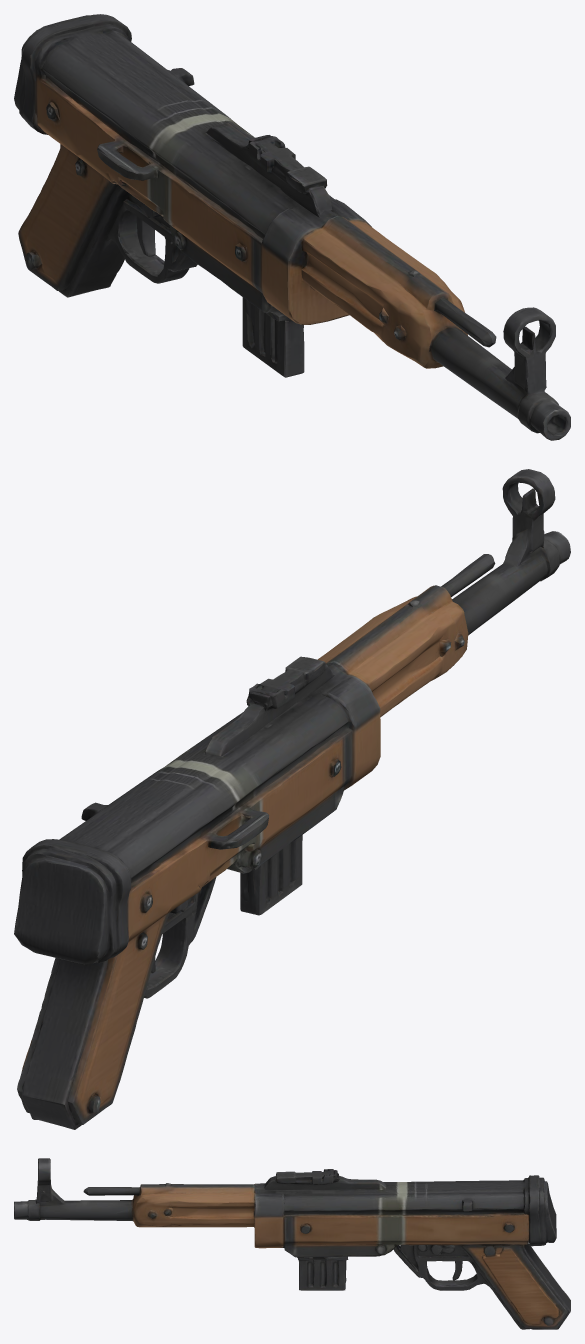
Rendered from wooden_smg.medium.glb.
3 renders of one model, top to bottom at view 1: azimuth 30°, elevation 25°; view 2: azimuth 150°, elevation 25°; view 3: azimuth 270°, elevation 25°, orthographic. The views are drawn at different scales.
Visible parts, largest first — view 1: model; view 2: model; view 3: model.
Part boxes in pixels (x1,y1,x2,y2): model: (14,14,570,440); model: (14,469,570,1129); model: (14,1158,570,1329).
Size of the model in its own units: 0.1041 by 0.2417 by 0.74.
Materials: 1 (1 with a texture image).
